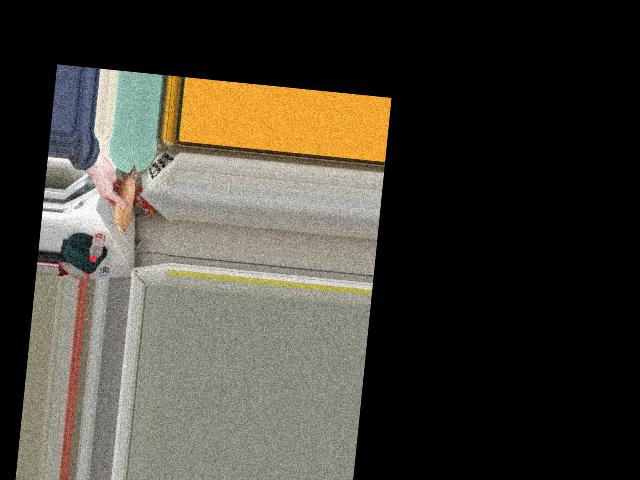sweet_potato: (110, 167, 136, 226)
